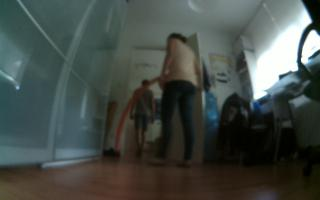person: (145, 25, 208, 170), (132, 71, 154, 155)
